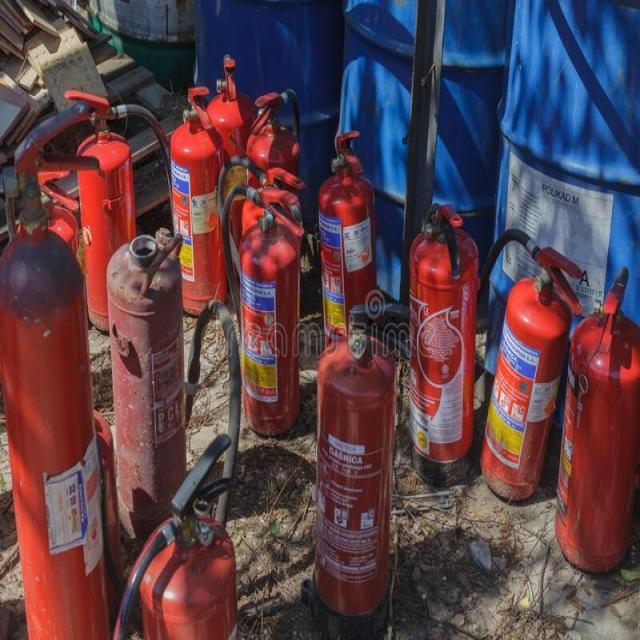fire_extinguisher: (0, 94, 120, 638), (446, 223, 584, 508), (306, 295, 416, 639), (60, 82, 194, 338), (98, 427, 250, 639), (104, 219, 194, 566), (550, 261, 639, 584), (215, 180, 306, 449), (403, 195, 482, 491), (239, 79, 310, 368), (314, 128, 382, 392), (166, 80, 231, 316), (202, 53, 256, 305)
